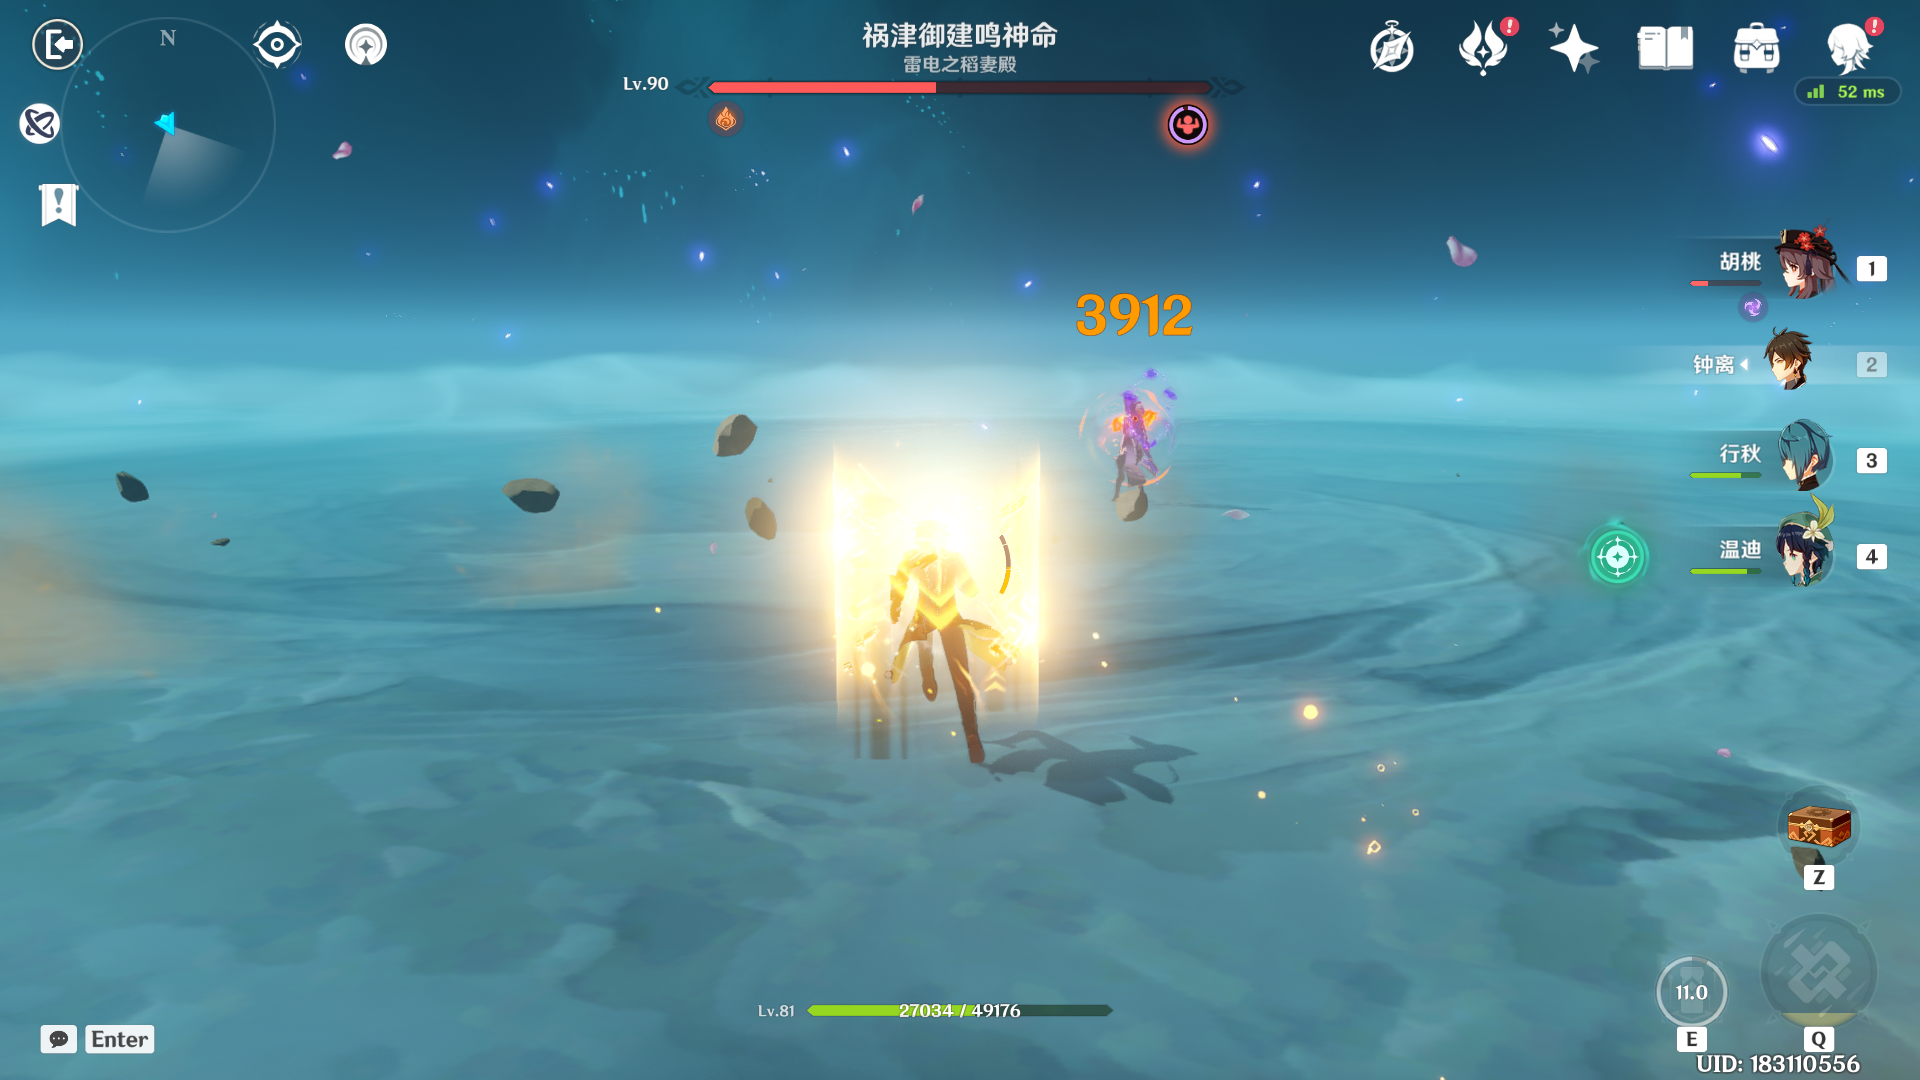character: (825, 481, 1069, 819)
